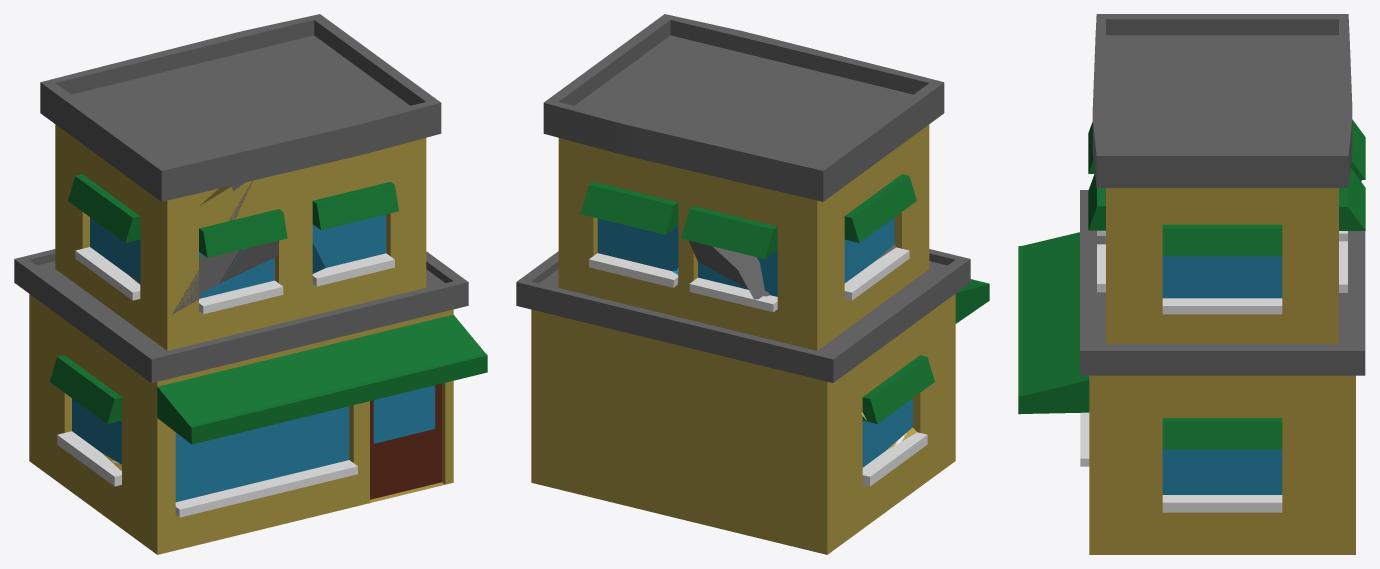
File: D_kiosk duzy.fbx
3 renders of one model, left to right at view 1: azimuth 30°, elevation 25°; view 2: azimuth 150°, elevation 25°; view 3: azimuth 270°, elevation 25°, orthographic. The views are drawn at different scales.
Parts seen in each view (by area): view 1: kiosk duzy.019, kiosk duzy.008, kiosk duzy.023, kiosk duzy.002, kiosk duzy.011, kiosk duzy.017, kiosk duzy.035, kiosk duzy.001, kiosk duzy.028, kiosk duzy.040, kiosk duzy.024, kiosk duzy.042 (+7 smaller); view 2: kiosk duzy.019, kiosk duzy.011, kiosk duzy.043, kiosk duzy.001, kiosk duzy.033, kiosk duzy.039, kiosk duzy.024, kiosk duzy.029, kiosk duzy.028, kiosk duzy.003, kiosk duzy.021, kiosk duzy.002 (+8 smaller); view 3: kiosk duzy.008, kiosk duzy.011, kiosk duzy.033, kiosk duzy.019, kiosk duzy.030, kiosk duzy.003, kiosk duzy.024, kiosk duzy.035, kiosk duzy.023, kiosk duzy.017, kiosk duzy.021, kiosk duzy.004 (+4 smaller).
Part boxes in pixels (box(x1,y1,x2,y2)): kiosk duzy.019: box(14, 61, 251, 303); kiosk duzy.008: box(320, 187, 487, 465); kiosk duzy.023: box(99, 248, 328, 463); kiosk duzy.002: box(73, 452, 416, 554); kiosk duzy.011: box(196, 14, 426, 136); kiosk duzy.017: box(184, 305, 401, 469); kiosk duzy.035: box(269, 92, 441, 247); kiosk duzy.001: box(14, 249, 143, 407); kiosk duzy.028: box(86, 284, 219, 444); kiosk duzy.040: box(144, 159, 269, 316); kiosk duzy.024: box(125, 41, 309, 158); kiosk duzy.042: box(292, 174, 426, 304); kiosk duzy.019: box(707, 61, 944, 360); kiosk duzy.011: box(543, 24, 796, 261); kiosk duzy.043: box(647, 262, 884, 481); kiosk duzy.001: box(759, 262, 931, 442); kiosk duzy.033: box(516, 202, 657, 417); kiosk duzy.039: box(605, 325, 796, 483); kiosk duzy.024: box(660, 47, 859, 213); kiosk duzy.029: box(673, 479, 879, 554); kiosk duzy.028: box(899, 235, 989, 396); kiosk duzy.003: box(531, 347, 604, 485); kiosk duzy.021: box(558, 191, 686, 324); kiosk duzy.002: box(871, 405, 955, 522); kiosk duzy.008: box(1018, 238, 1269, 527); kiosk duzy.011: box(1101, 90, 1365, 243); kiosk duzy.033: box(1166, 239, 1365, 451); kiosk duzy.019: box(1094, 14, 1365, 163); kiosk duzy.030: box(1089, 448, 1319, 554); kiosk duzy.003: box(1267, 413, 1355, 554); kiosk duzy.024: box(1094, 57, 1351, 106); kiosk duzy.035: box(1088, 90, 1161, 229); kiosk duzy.023: box(1018, 218, 1105, 299); kiosk duzy.017: box(1018, 280, 1096, 462); kiosk duzy.021: box(1088, 211, 1365, 294); kiosk duzy.004: box(1089, 540, 1307, 554).
Size of the model in its own units: 440 by 490 by 391.
